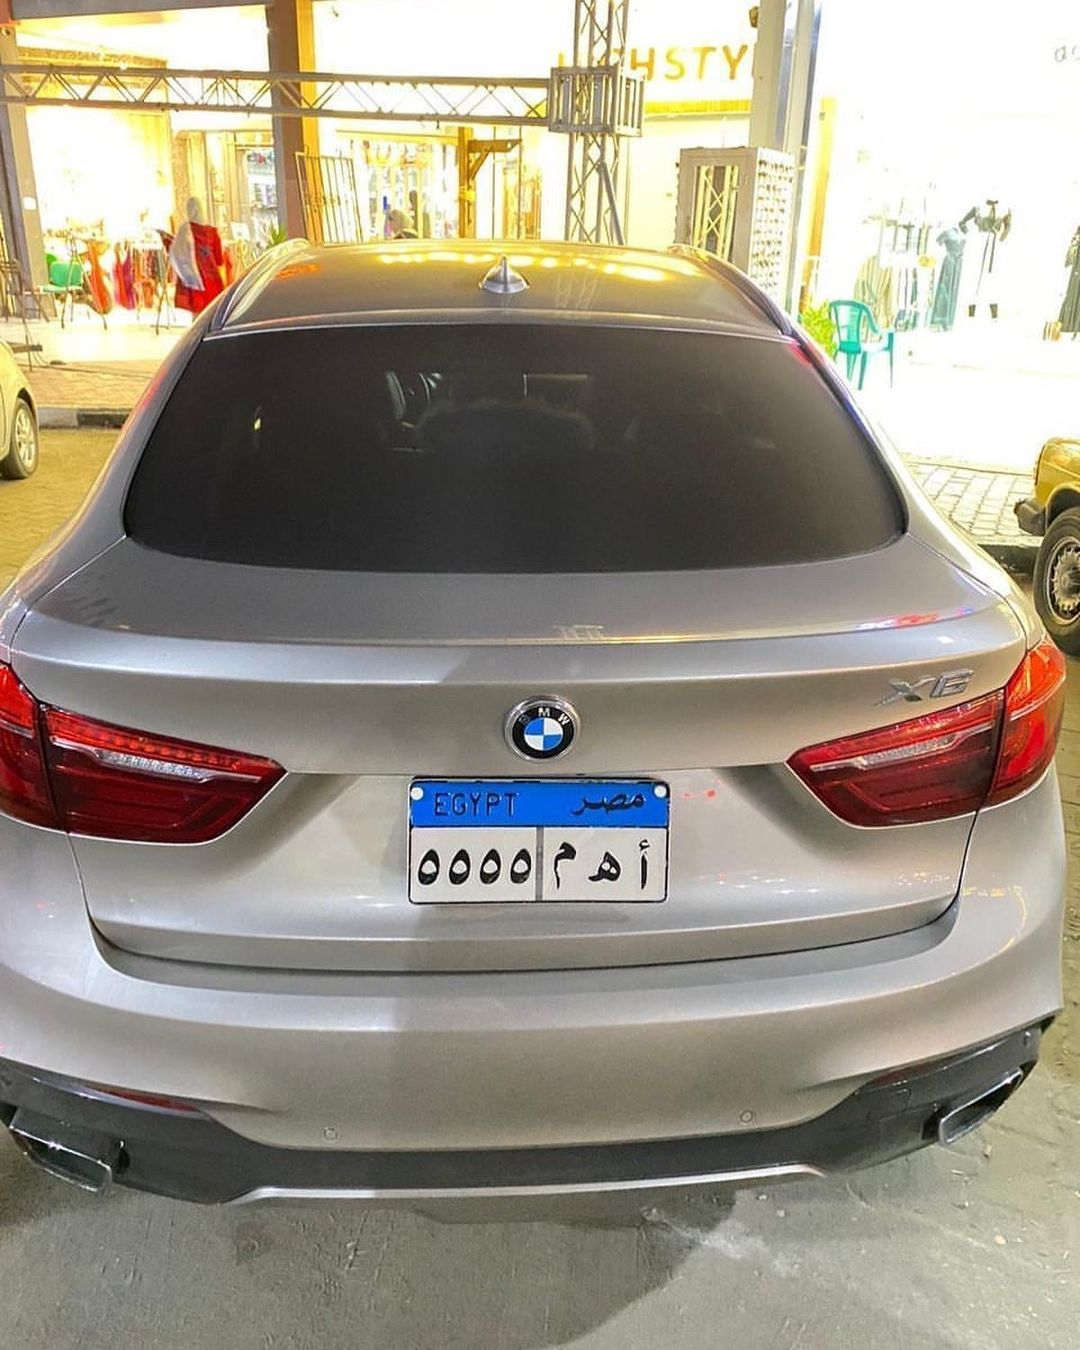carpl: (400, 756, 670, 913)
